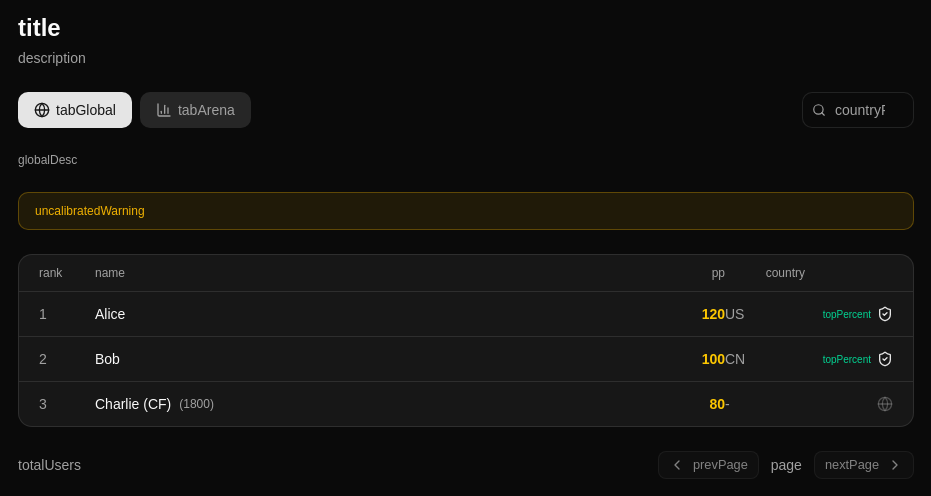
Test: GlobalRankingPage › switches back to global tab from arena
Click the button "tabArena": (195, 110) left=140, top=92, right=251, bottom=128
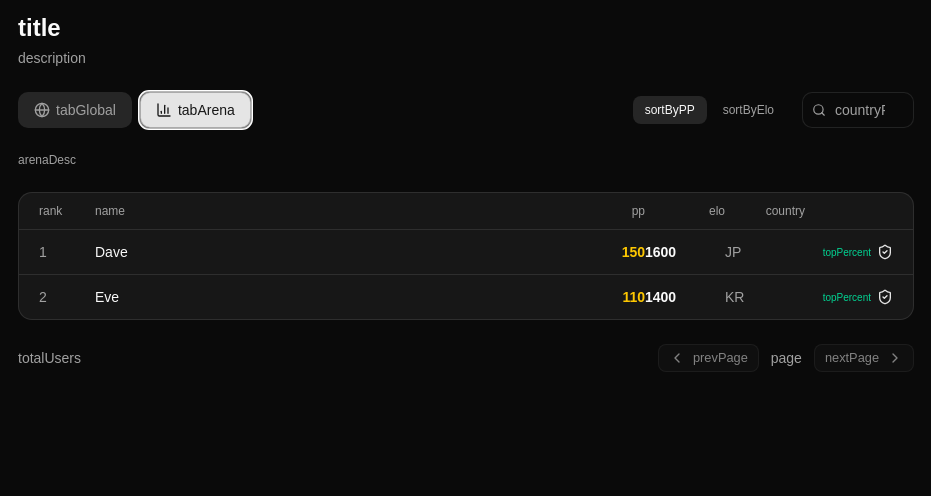
Expected: the text "Dave" is shown, left=95, top=242, right=128, bottom=262
Click the button "tabGlobal": (75, 110) left=18, top=92, right=132, bottom=128
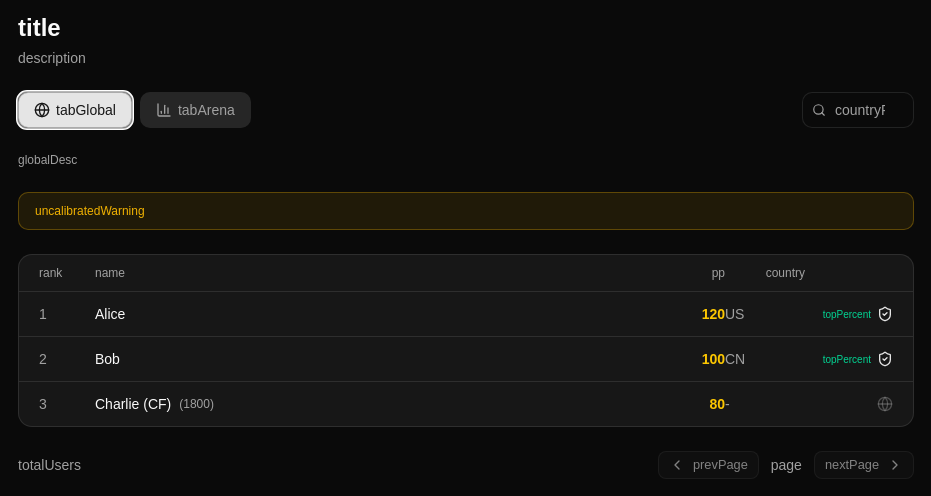
Expected: the text "Alice" is shown, left=95, top=304, right=125, bottom=324
